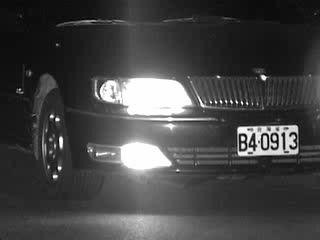plate: (235, 124, 300, 156)
